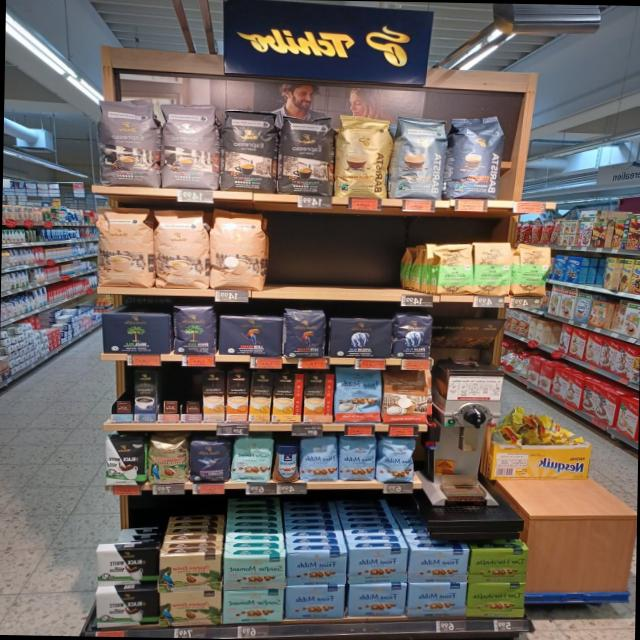AB Bohne: (392, 314, 434, 359)
AB Gemahlen: (327, 317, 393, 358)
Athiopien Bohne: (512, 244, 552, 296)
Athiopien Gemahlen: (472, 240, 512, 294), (435, 243, 473, 295)
BM Bohne: (172, 304, 216, 356)
BM Gemahlen: (100, 313, 170, 354)
BW Bohne: (94, 586, 159, 628), (94, 546, 158, 588), (103, 436, 146, 486)
Barista CB: (332, 114, 392, 198)
Barista CC: (389, 116, 448, 198)
Barista Espresso: (446, 116, 506, 200)
C Fino Bohne: (188, 439, 231, 484)
CC Mild: (208, 210, 267, 290), (94, 206, 152, 287), (153, 207, 209, 289)
CC Vollmundig: (382, 369, 426, 423)
Colombia BB Bohne: (146, 438, 188, 486)
Colombia BB Gemahlen: (157, 588, 220, 628), (156, 551, 220, 590)
Empty Shelf: (267, 210, 426, 292), (157, 371, 181, 414), (110, 369, 132, 414), (180, 371, 201, 414)
Espresso Aromatisch: (96, 92, 160, 186), (160, 101, 219, 189)
Espresso Kraftig: (220, 107, 280, 192), (276, 116, 334, 195)
FM 36 Pads: (334, 368, 380, 422)
FM Bohne: (376, 437, 416, 484), (338, 435, 378, 481), (298, 434, 337, 481)
FM Gemahlen: (347, 545, 407, 584), (286, 548, 346, 586), (285, 583, 345, 620), (406, 580, 466, 616), (347, 582, 406, 618), (407, 548, 469, 582)
FM Instant: (270, 443, 299, 483)
Herzhatfe Mundig: (468, 546, 530, 584), (466, 582, 526, 618)
LG Bohne: (282, 310, 326, 358)
LG Gemahlen: (216, 317, 282, 357)
SM Bohne: (230, 436, 274, 482)
SM Gemahlen: (222, 554, 285, 592), (221, 588, 283, 624)
Simo CCMild: (271, 373, 303, 422)
Simo CCMild bigpack: (248, 373, 273, 421)
Simo CCVollmundig: (303, 373, 334, 422)
Simo CCVollmundig bigpack: (226, 372, 249, 422)
Simo Decaff: (202, 370, 224, 421)
Simo Es Kraft: (133, 371, 156, 422)
